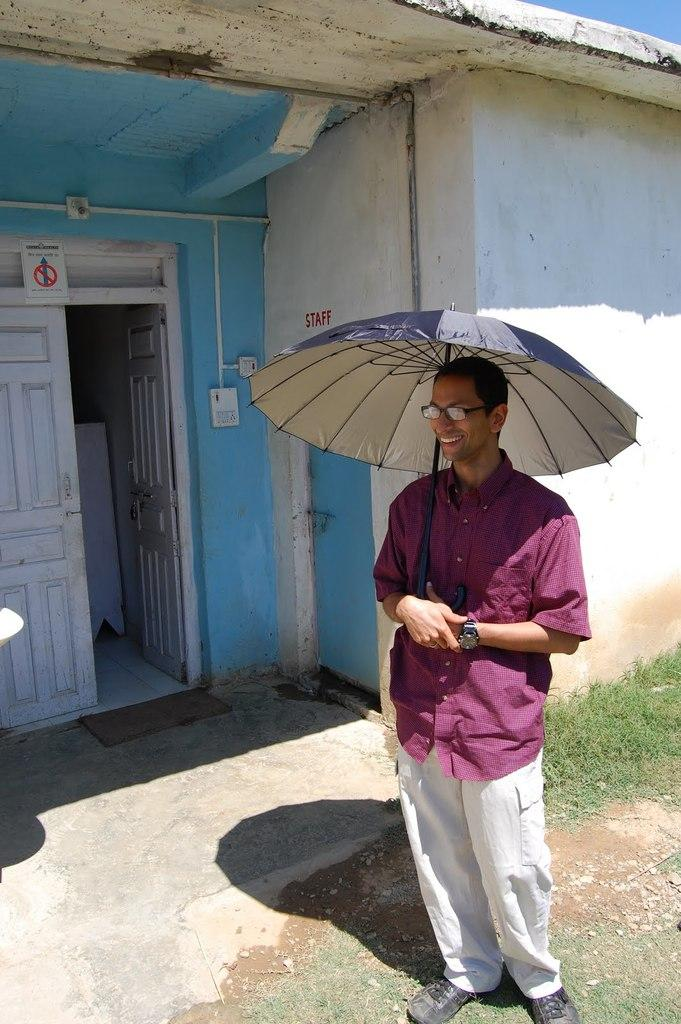no_helmet: (392, 358, 450, 398)
none: (371, 472, 506, 756)
